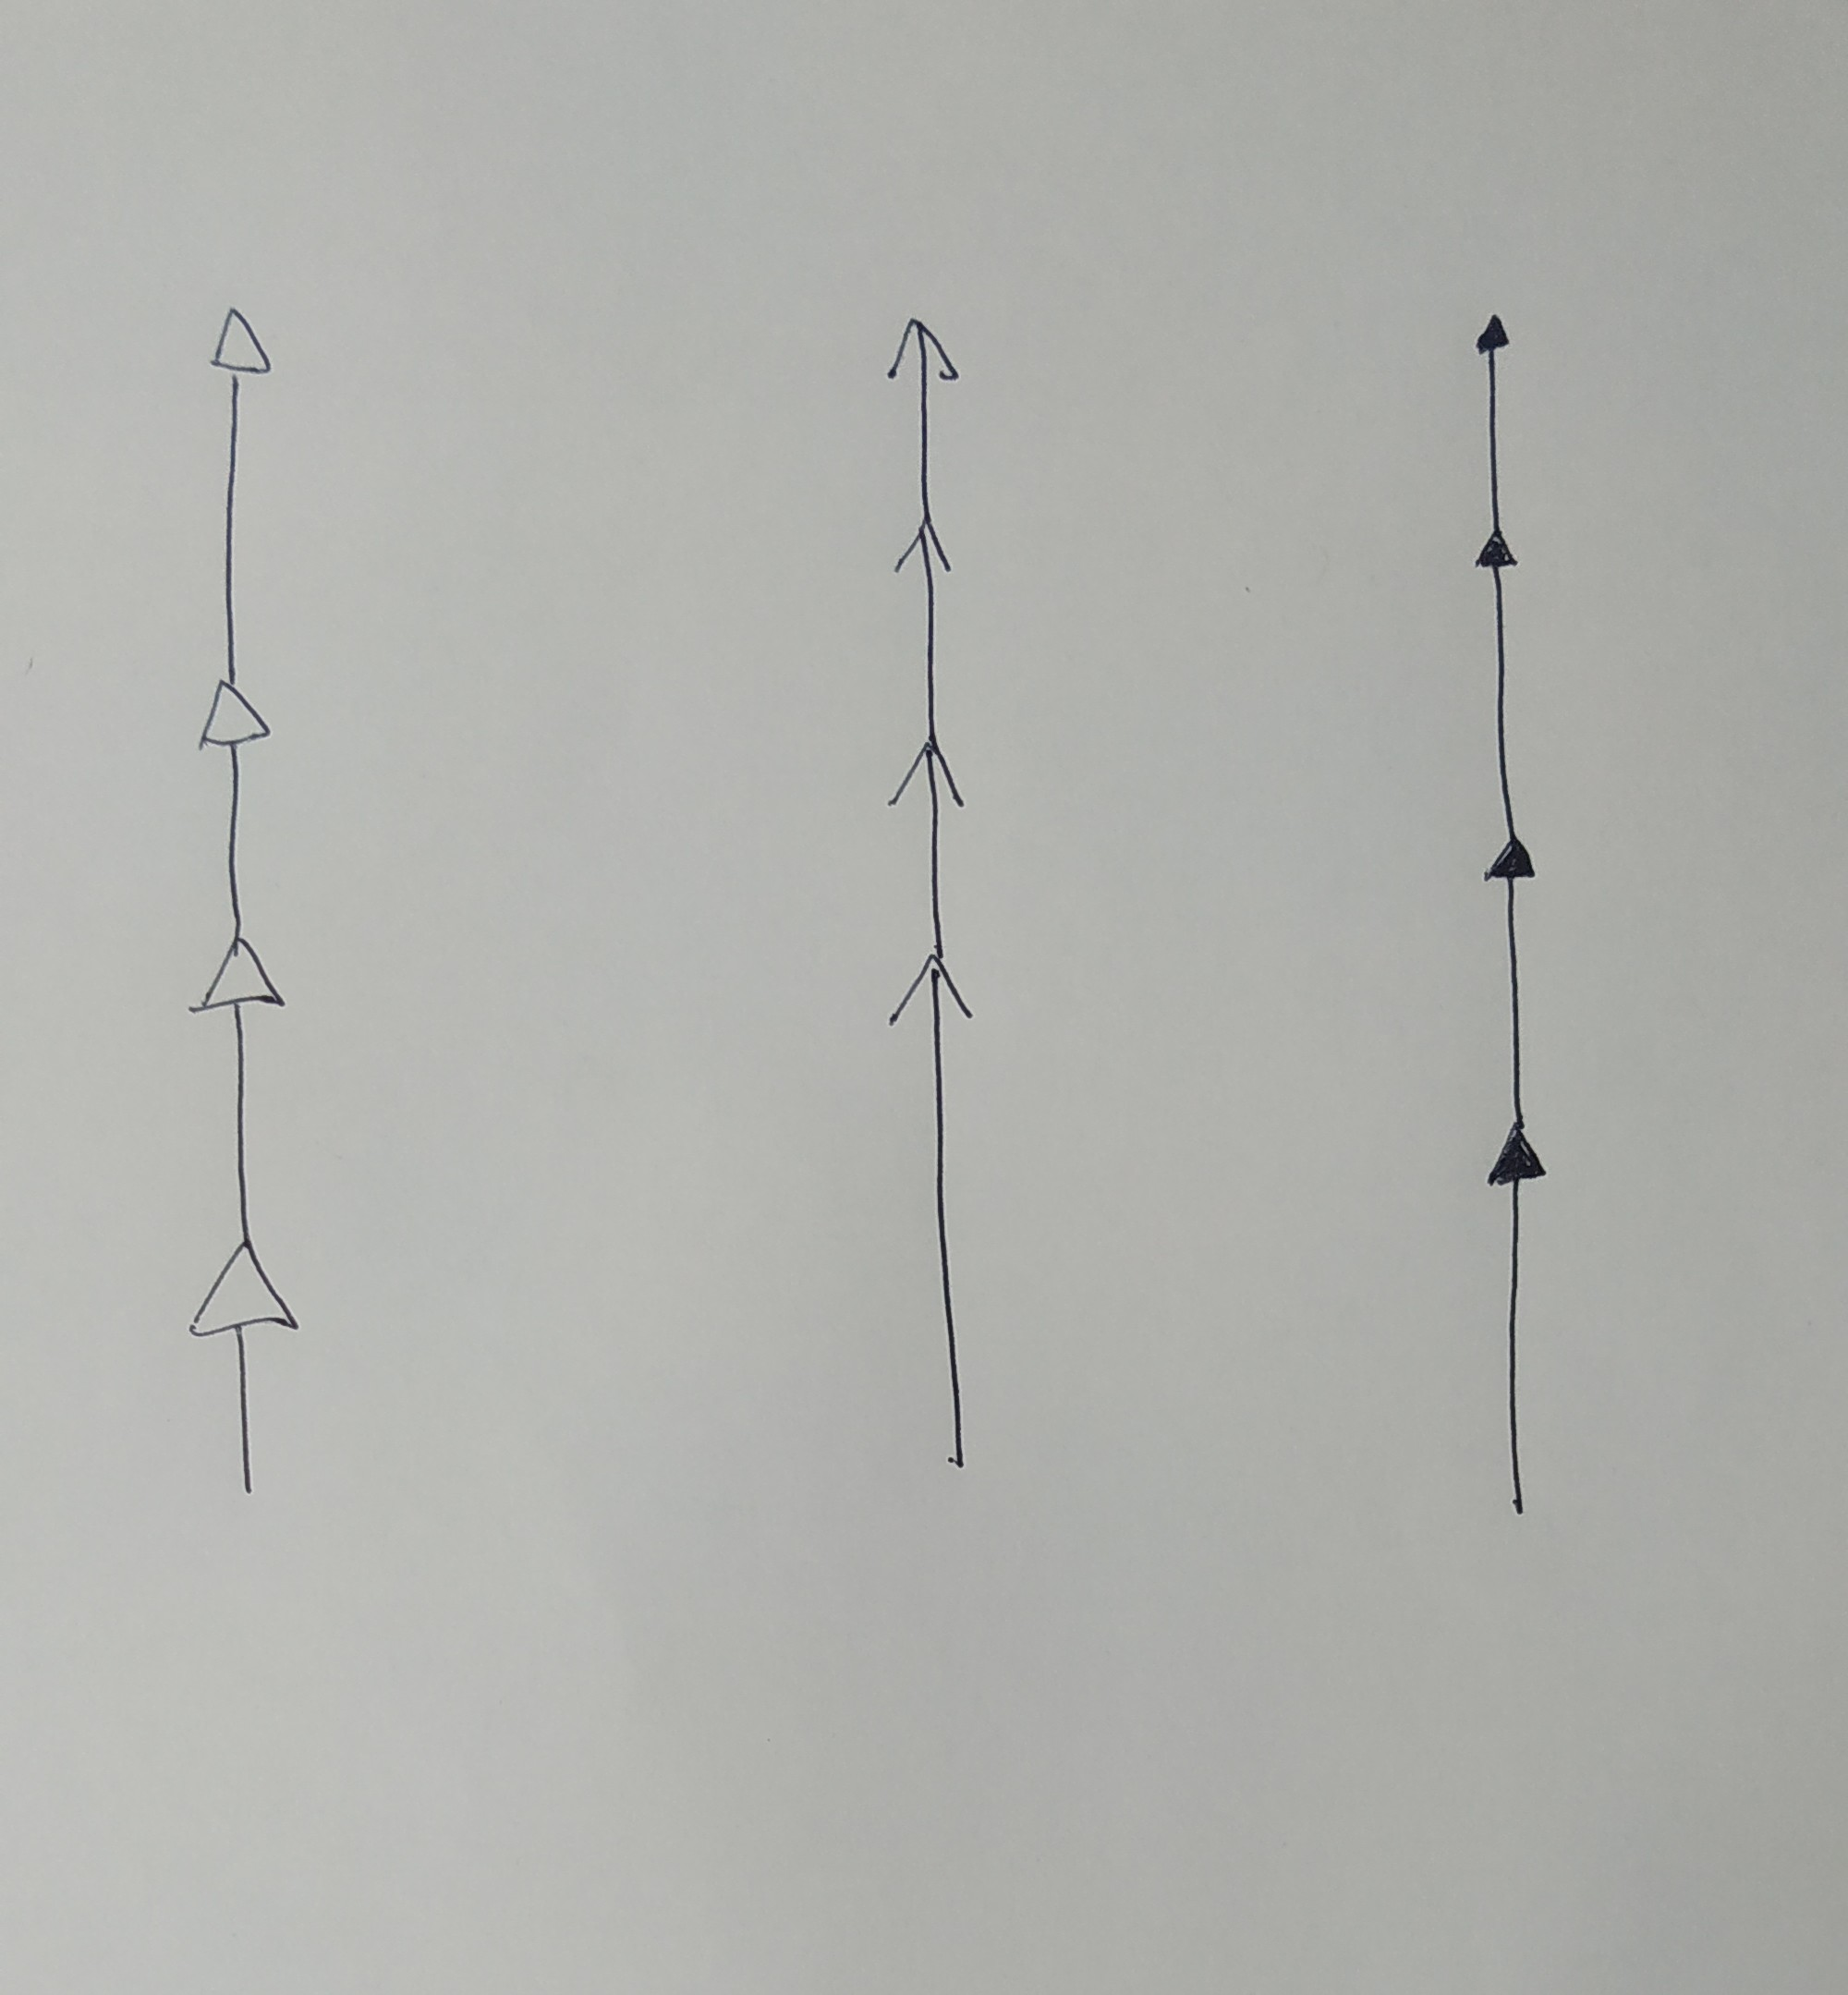arrow_line_up: (890, 958, 982, 1472), (189, 1244, 302, 1501), (196, 944, 290, 1244), (1483, 1126, 1552, 1519), (203, 304, 275, 686), (193, 683, 275, 940), (887, 744, 977, 958), (1481, 838, 1547, 1130), (1474, 530, 1530, 839), (885, 316, 963, 520), (894, 523, 960, 739), (1472, 311, 1523, 528)
